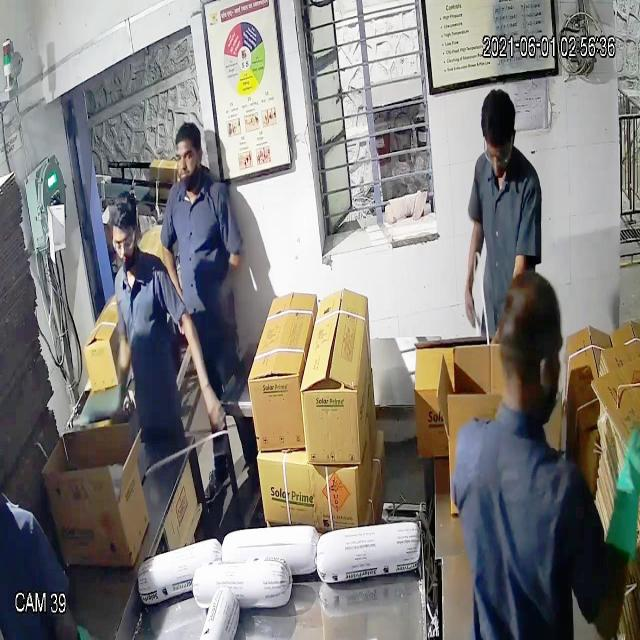glasses: (105, 224, 141, 259)
